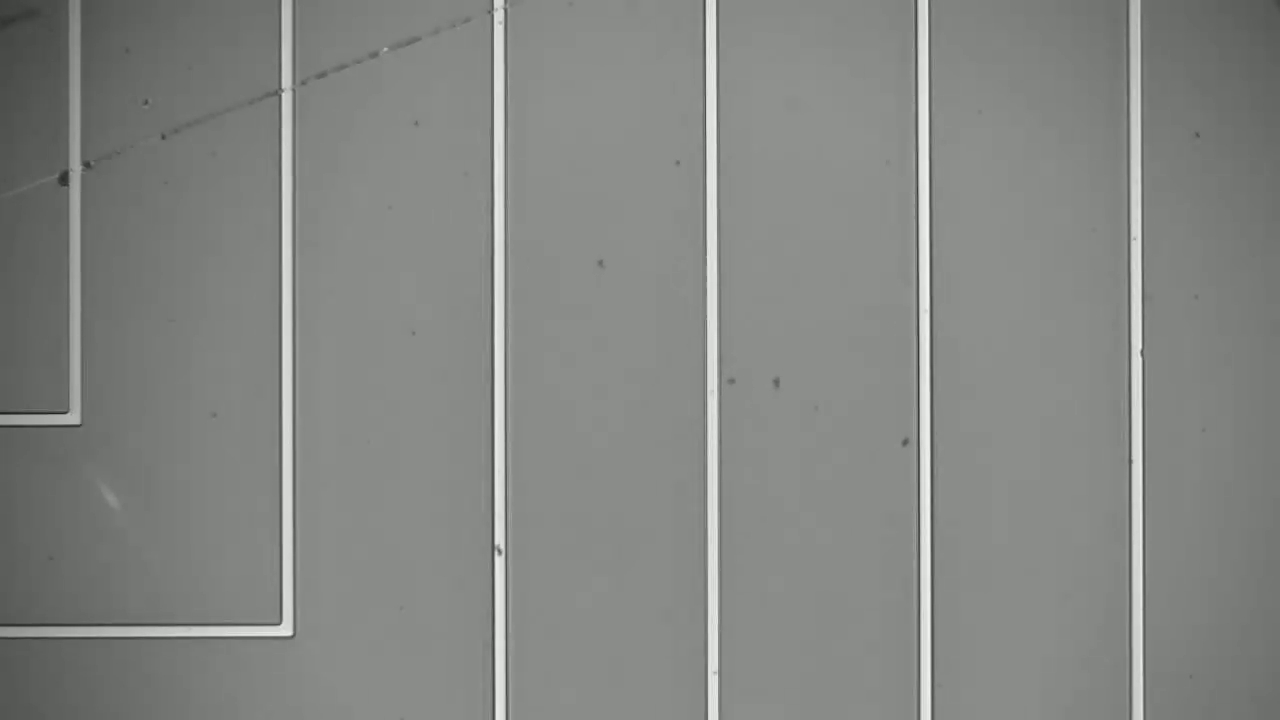scratch: (16, 12, 491, 188)
stains_enbedded: (482, 531, 517, 568)
